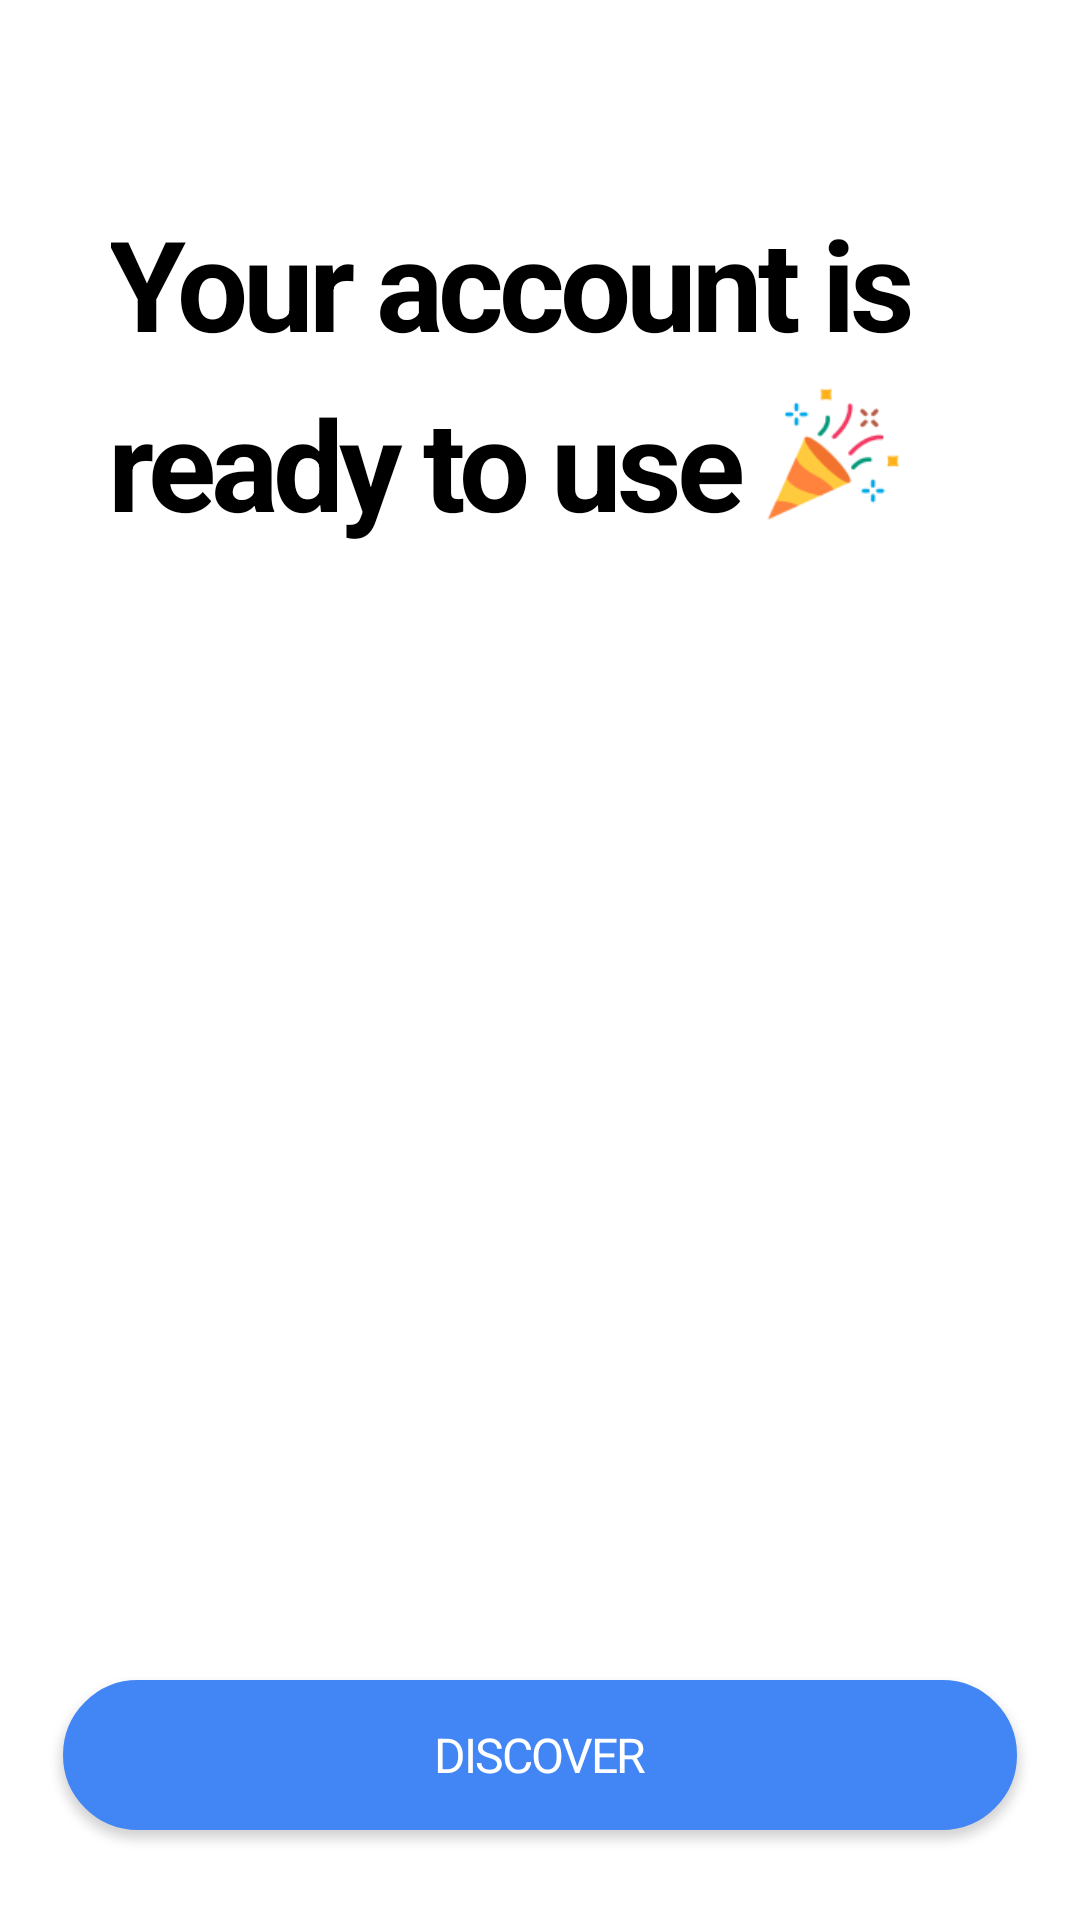

Where icons sit on this 1080w x 1920h app screen, as bbox(x1, y1, x2, y2):
confetti: bbox(767, 388, 899, 520)
